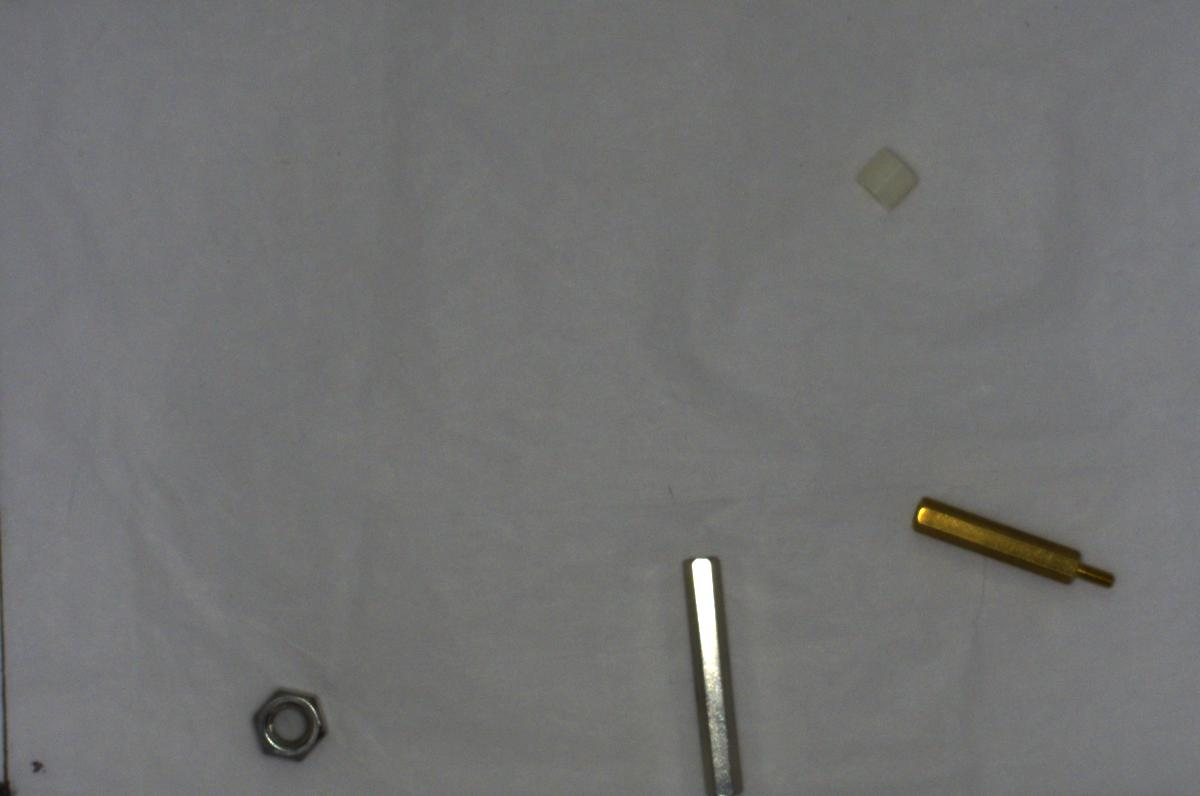Double hexagonal column: (670, 550, 760, 794)
Hexagon nut: (244, 675, 335, 769)
Hexagon pillar: (902, 495, 1122, 595)
Plastic cushion pillar: (854, 146, 930, 219)
